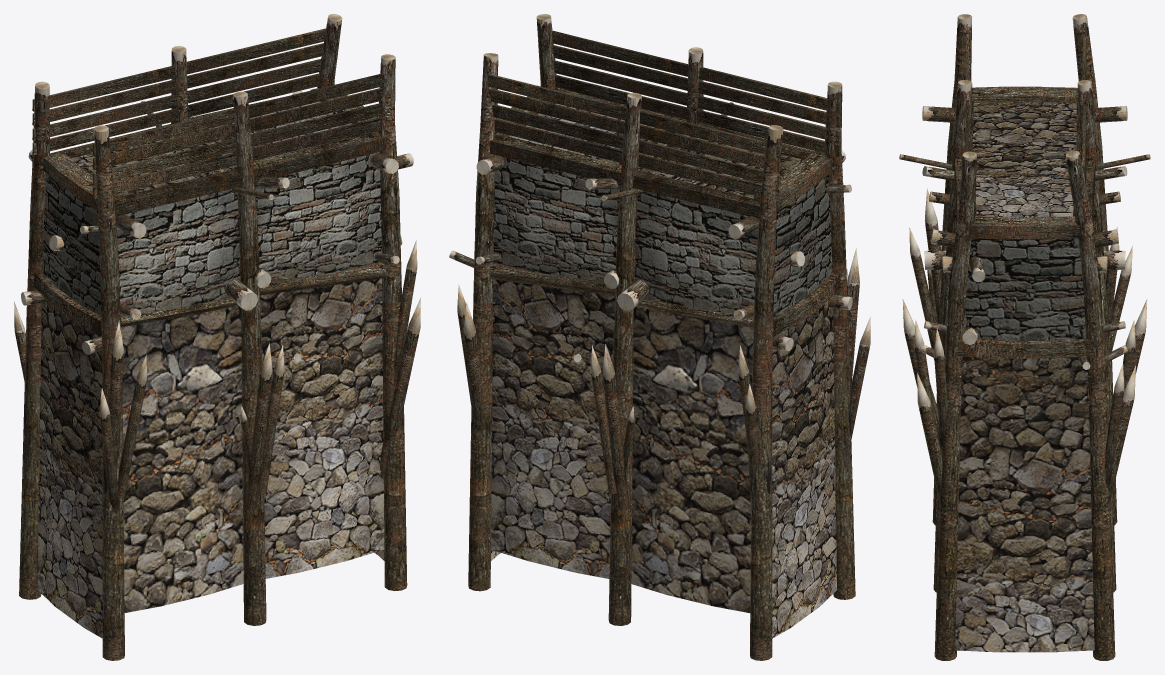
Rendered from s_gauls_wall_short.glb.
3 renders of one model, left to right at view 1: azimuth 30°, elevation 25°; view 2: azimuth 150°, elevation 25°; view 3: azimuth 270°, elevation 25°, orthographic. The views are drawn at different scales.
Visible parts, largest first — view 1: s_gauls_wall_short_part0; view 2: s_gauls_wall_short_part0; view 3: s_gauls_wall_short_part0.
Part boxes in pixels (x1,y1,x2,y2): s_gauls_wall_short_part0: (14,14,420,660); s_gauls_wall_short_part0: (449,14,870,660); s_gauls_wall_short_part0: (899,14,1150,660).
Size of the model in its own units: 3.48 by 5.08 by 2.29.
Materials: 1 (1 with a texture image).
